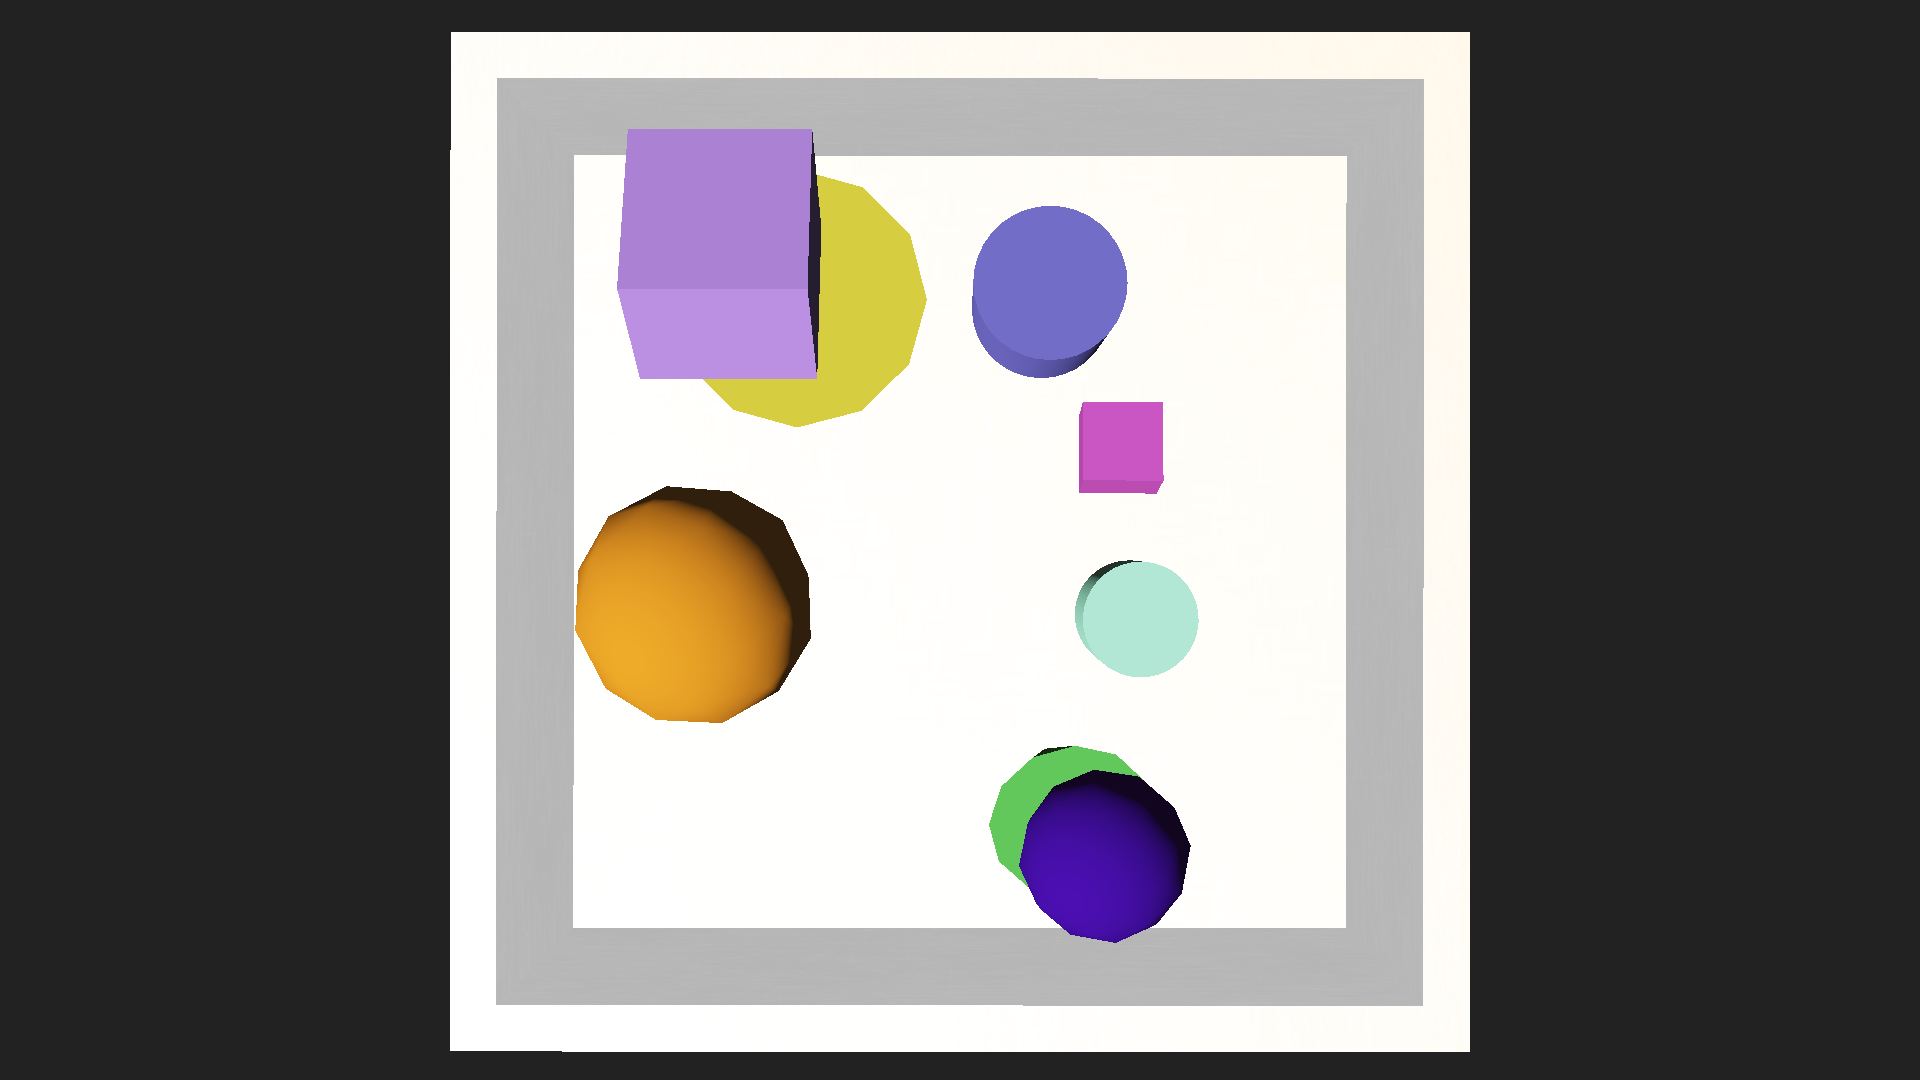3: (616, 115, 823, 384), (1077, 401, 1163, 493)
cone: (972, 204, 1126, 377), (1073, 559, 1197, 676)
sphere: (571, 481, 815, 725), (1018, 769, 1191, 942)
